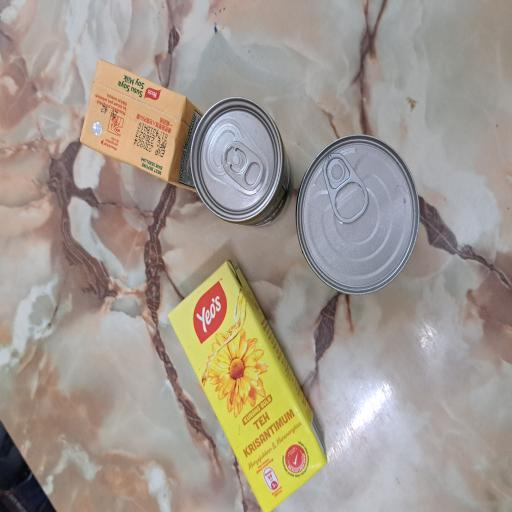can: (161, 392, 283, 512), (214, 254, 312, 388)
drink carton: (0, 222, 193, 437), (238, 106, 342, 271)
pop tab: (217, 430, 270, 492), (242, 296, 279, 352)
